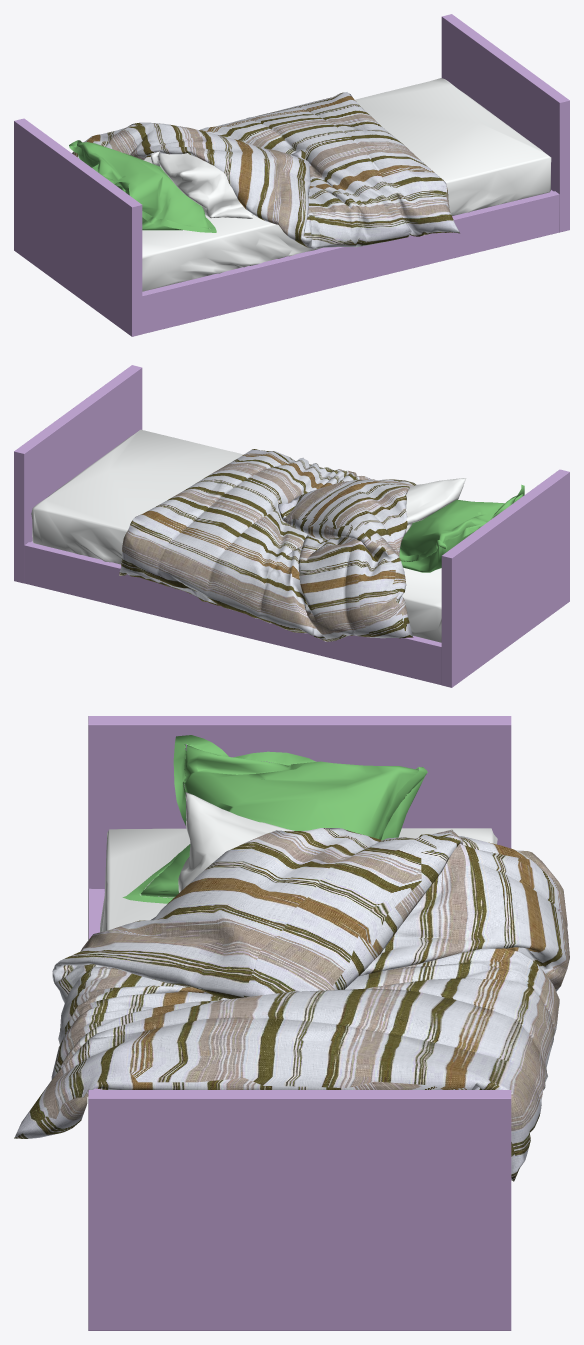
Rendered from main_bed2.fbx.
The picture shows the model from 3 angles, top to bottom: view 1: azimuth 30°, elevation 25°; view 2: azimuth 150°, elevation 25°; view 3: azimuth 270°, elevation 25°; orthographic projection. The views are drawn at different scales.
Parts seen in each view (by area): view 1: Bed, odealo, prostin, Pillows2, Pillows1; view 2: Bed, odealo, prostin, Pillows2, Pillows1; view 3: Bed, odealo, Pillows2, prostin, Pillows1.
Part boxes in pixels (x1=…): Bed: x1=14, y1=14, x2=569, y2=336; odealo: x1=72, y1=92, x2=459, y2=248; prostin: x1=142, y1=78, x2=551, y2=291; Pillows2: x1=69, y1=140, x2=216, y2=232; Pillows1: x1=150, y1=152, x2=253, y2=218; Bed: x1=14, y1=365, x2=569, y2=687; odealo: x1=119, y1=449, x2=416, y2=641; prostin: x1=31, y1=429, x2=441, y2=642; Pillows2: x1=399, y1=484, x2=524, y2=572; Pillows1: x1=323, y1=478, x2=466, y2=541; Bed: x1=88, y1=716, x2=511, y2=1330; odealo: x1=14, y1=828, x2=569, y2=1181; Pillows2: x1=122, y1=735, x2=427, y2=903; prostin: x1=100, y1=828, x2=497, y2=1089; Pillows1: x1=178, y1=792, x2=294, y2=892.
Size of the model in its own units: 283 by 80.08 by 174.
